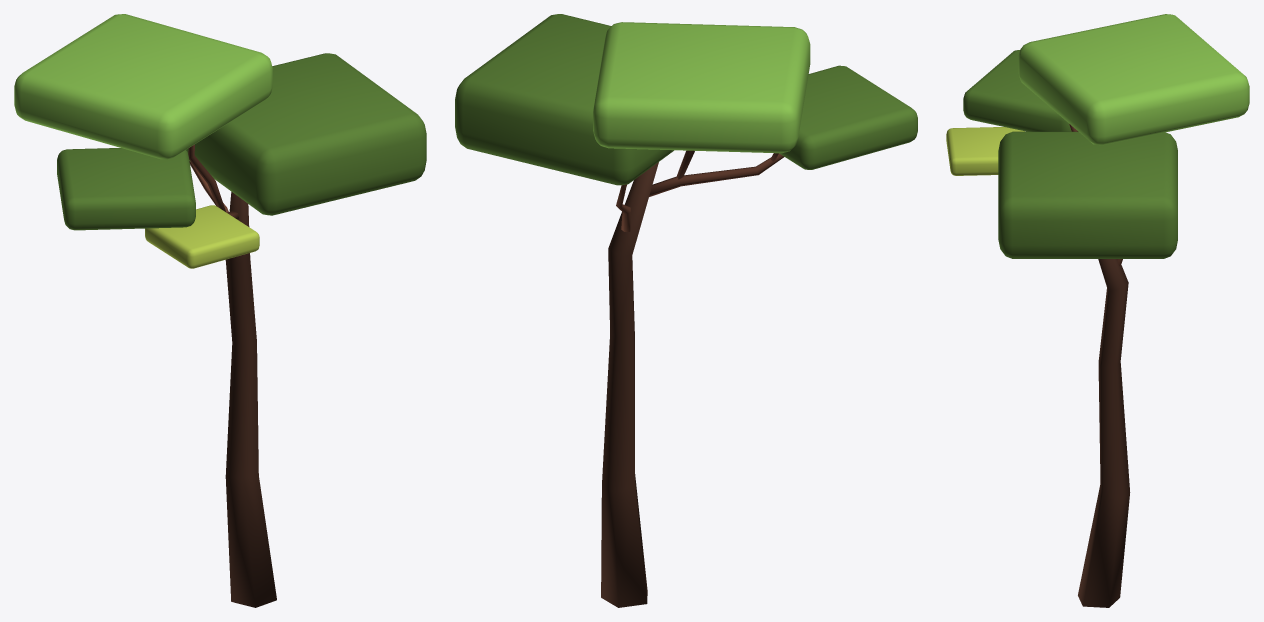
Rendered from TreeTall_01.glb.
3 renders of one model, left to right at view 1: azimuth 30°, elevation 25°; view 2: azimuth 150°, elevation 25°; view 3: azimuth 270°, elevation 25°, orthographic. The views are drawn at different scales.
Visible parts, largest first — view 1: TreeTall_01; view 2: TreeTall_01; view 3: TreeTall_01.
Part boxes in pixels (x1,y1,x2,y2): TreeTall_01: [14, 14, 426, 607]; TreeTall_01: [455, 14, 917, 607]; TreeTall_01: [946, 14, 1249, 607].
Size of what is drawn, in the model's own units: 4.22 by 6.15 by 3.37.
1 material, 1 textured.
